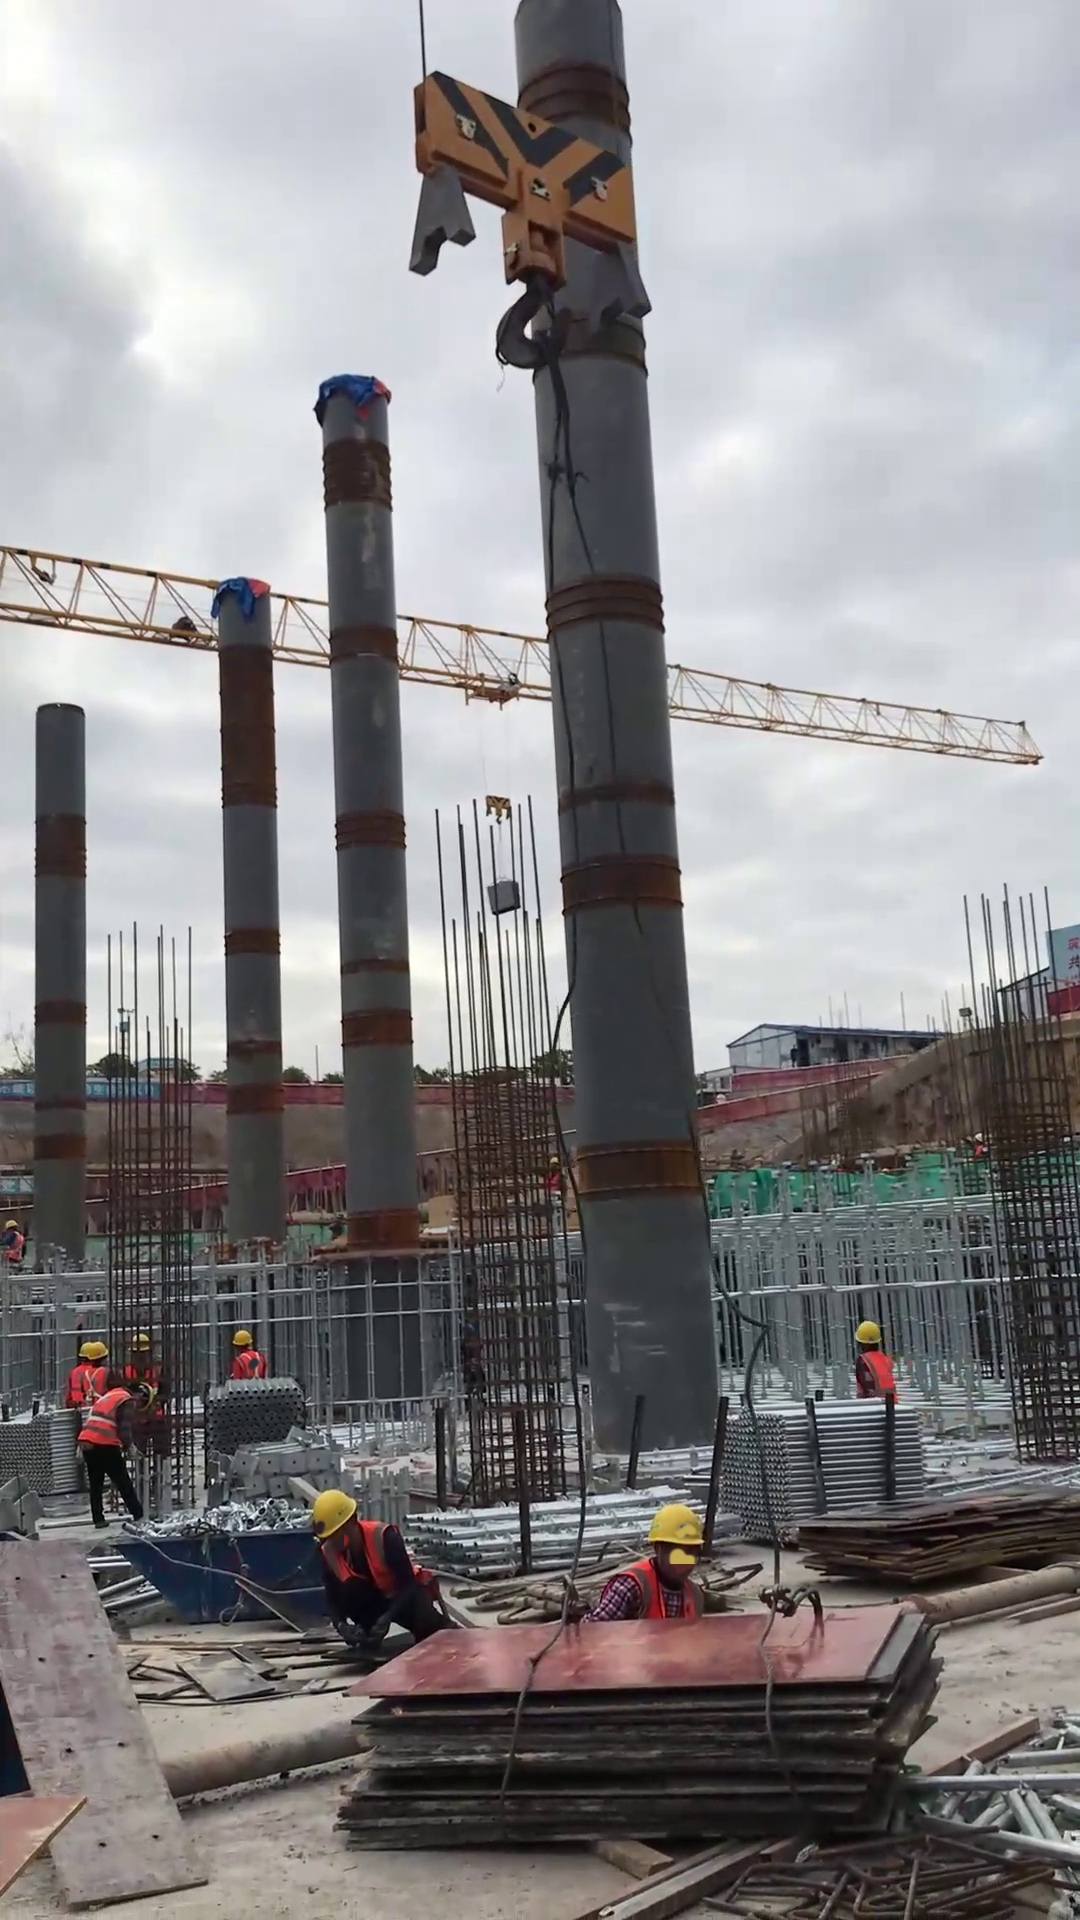helmet: (644, 1503, 707, 1549), (312, 1488, 358, 1540), (853, 1319, 883, 1345), (86, 1341, 110, 1361), (126, 1333, 151, 1352), (75, 1337, 93, 1360), (231, 1329, 253, 1347), (1, 1216, 20, 1231), (972, 1129, 986, 1145), (548, 1153, 560, 1167)
person: (311, 1487, 449, 1650), (582, 1499, 705, 1623), (76, 1382, 155, 1528), (114, 1329, 171, 1461), (852, 1316, 899, 1407), (81, 1334, 112, 1411), (63, 1339, 93, 1406), (229, 1328, 268, 1381), (1, 1216, 27, 1266)
vest: (317, 1516, 430, 1598), (610, 1557, 705, 1620), (74, 1386, 130, 1447), (116, 1357, 166, 1418), (852, 1350, 899, 1407), (83, 1366, 112, 1407), (70, 1361, 93, 1406), (234, 1347, 265, 1379), (5, 1231, 23, 1261), (544, 1167, 563, 1192)
